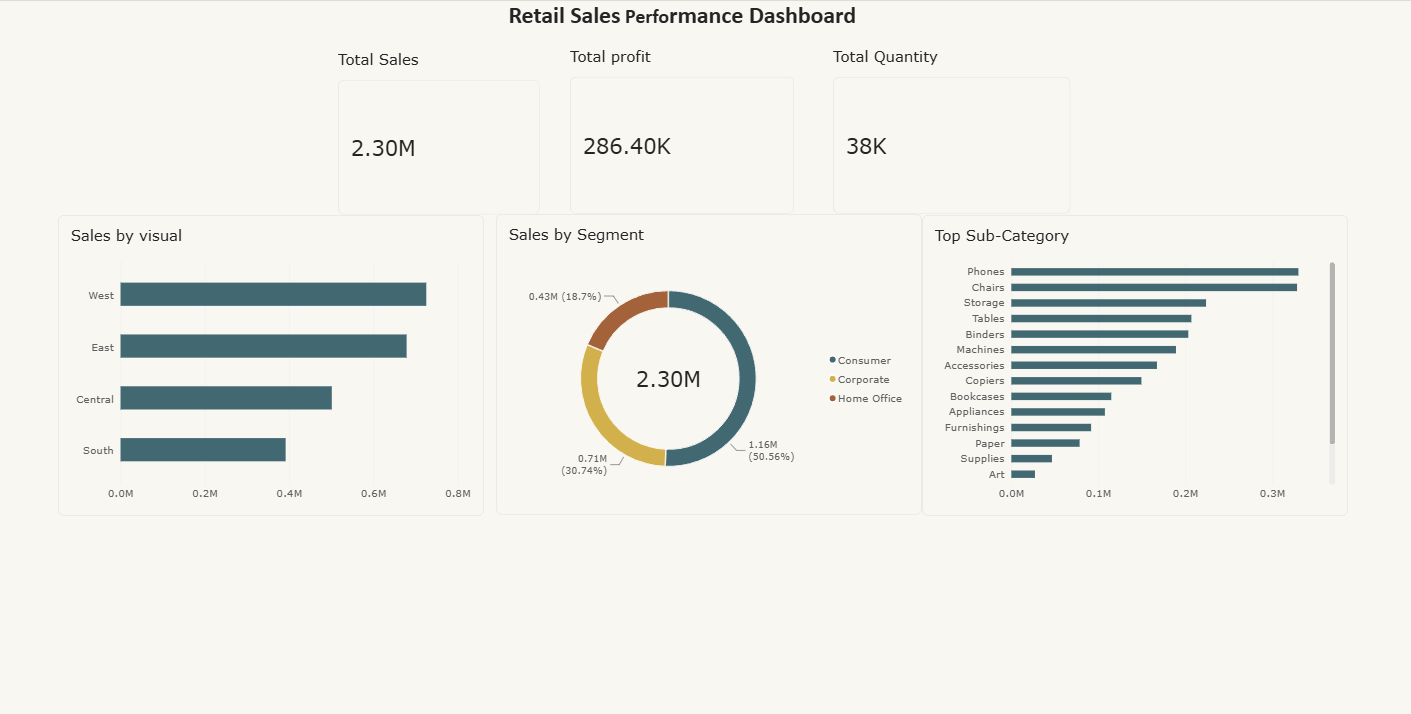

What the dashboard file says about the page in this screenshot:
{"tool":"powerbi","page":{"name":"Page 1","canvas":[1920,1080],"ordinal":0},"visuals":[{"type":"cardVisual","title":"Total Sales","fields":{"Data":["Sum(SampleSuperstore (2).Sales)"]},"box":[461.9,65.7,271.7,221.9],"z":0},{"type":"cardVisual","title":"Total profit","fields":{"Data":["Sum(SampleSuperstore (2).Profit)"]},"box":[774.3,61.1,301.1,224.2],"z":1},{"type":"cardVisual","title":"Total Quantity","fields":{"Data":["Sum(SampleSuperstore (2).Quantity)"]},"box":[1127.5,61.1,319.2,224.2],"z":2},{"type":"barChart","title":"Sales by Region","fields":{"Category":["SampleSuperstore (2).Region"],"Y":["Sum(SampleSuperstore (2).Sales)"]},"box":[86.5,287.3,571.9,404.3],"z":3},{"type":"donutChart","title":"Sales by Segment","fields":{"Category":["SampleSuperstore (2).Segment"],"Y":["Sum(SampleSuperstore (2).Sales)"]},"box":[674.3,286.1,572,404],"z":4},{"type":"clusteredBarChart","title":"Top Sub-Category","fields":{"Category":["SampleSuperstore (2).Sub-Category"],"Y":["Sum(SampleSuperstore (2).Sales)"]},"box":[1246.6,287.5,572,404],"z":5},{"type":"textbox","box":[619.8,0,610.5,63.8],"z":6},{"type":"slicer","fields":{"Values":["SampleSuperstore (2).Region"]},"box":[67.2,61.8,376,221],"z":7}]}

Visuals, with their boxes on the page's 1920x1080 design canvas (x1, y1, x2, y2). These are canvas units, not pixel positions in the 1411x714 screenshot, which may show the page scaled, cropped or inside an application window:
"Total Sales" cardVisual: 462, 66, 734, 288
"Total profit" cardVisual: 774, 61, 1075, 285
"Total Quantity" cardVisual: 1128, 61, 1447, 285
"Sales by Region" barChart: 86, 287, 658, 692
"Sales by Segment" donutChart: 674, 286, 1246, 690
"Top Sub-Category" clusteredBarChart: 1247, 288, 1819, 692
textbox: 620, 0, 1230, 64
slicer - SampleSuperstore (2).Region: 67, 62, 443, 283
